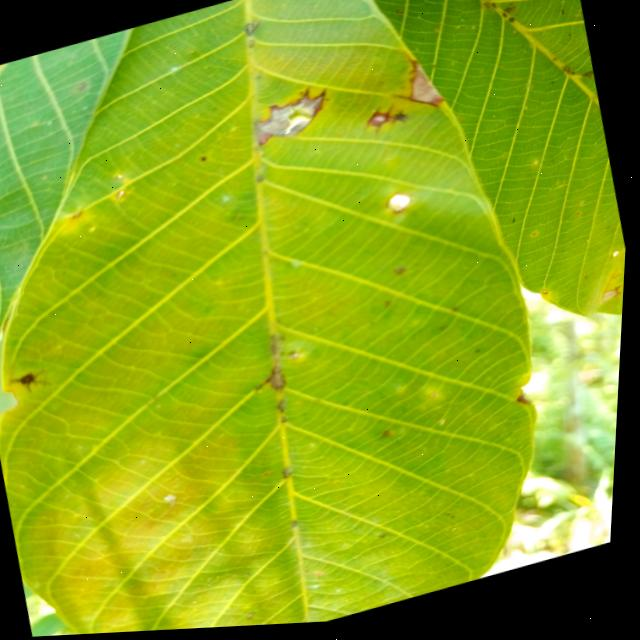Colletotrichum: (508, 22, 515, 28)
Corynespora: (392, 87, 442, 124), (363, 103, 410, 137)
Leaf-Blight: (256, 97, 330, 146), (405, 60, 447, 115)
